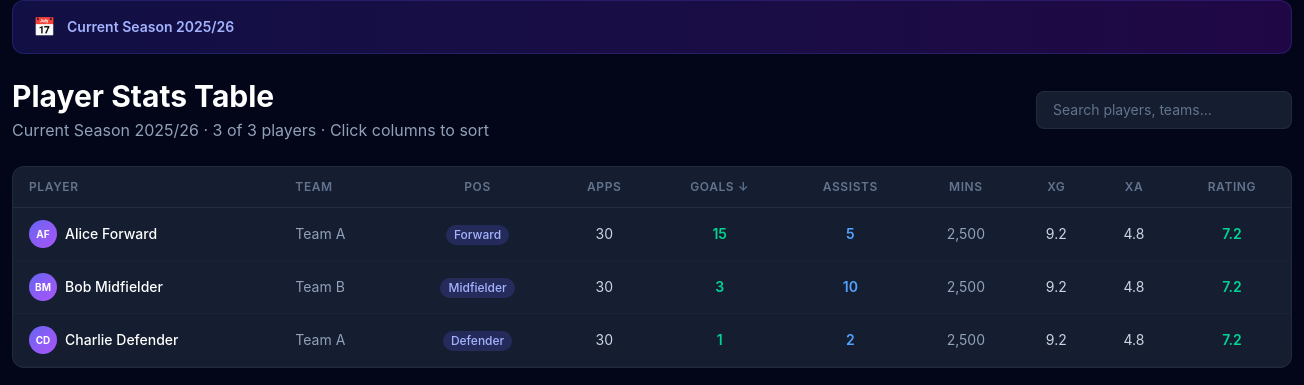
it: PlayerStatsTable › filters players by search
Expected: the text "Alice Forward" is shown, [65, 224, 157, 244]
Type "Alice" into the field labelled "Search players". click: (1164, 110)
box: [1036, 91, 1292, 129]
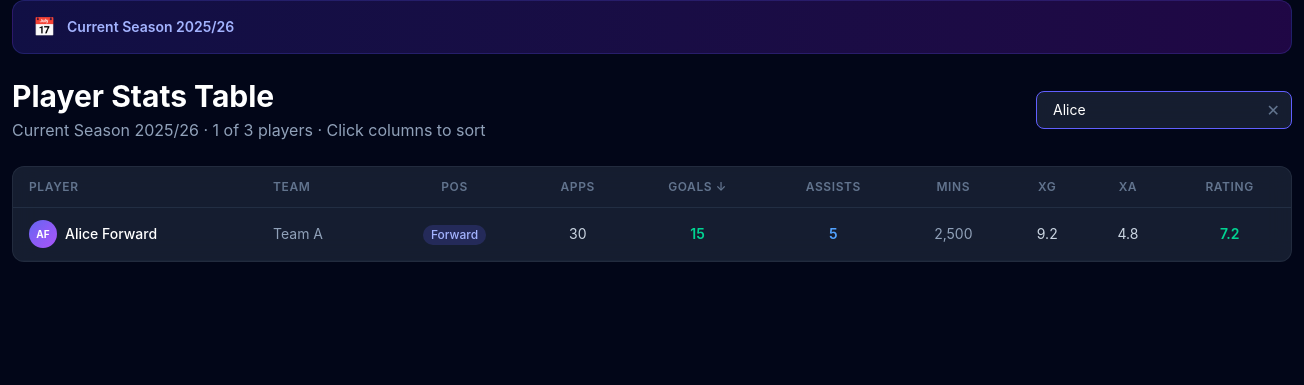
Expected: the text "Alice Forward" is shown, [65, 224, 157, 244]
Now the link "Bob Midfielder" is gone
